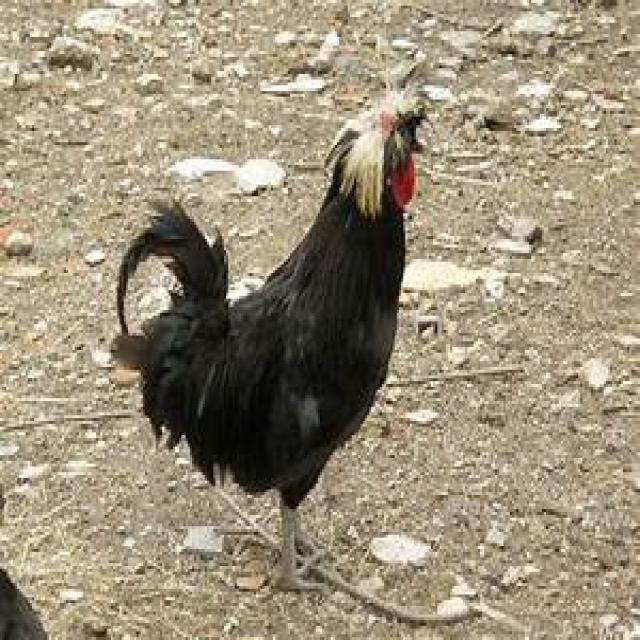hen: (107, 88, 437, 592)
